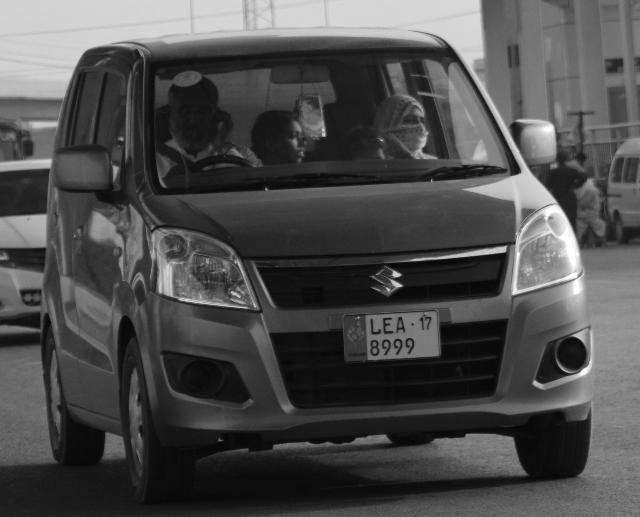Number: (368, 317, 420, 357)
